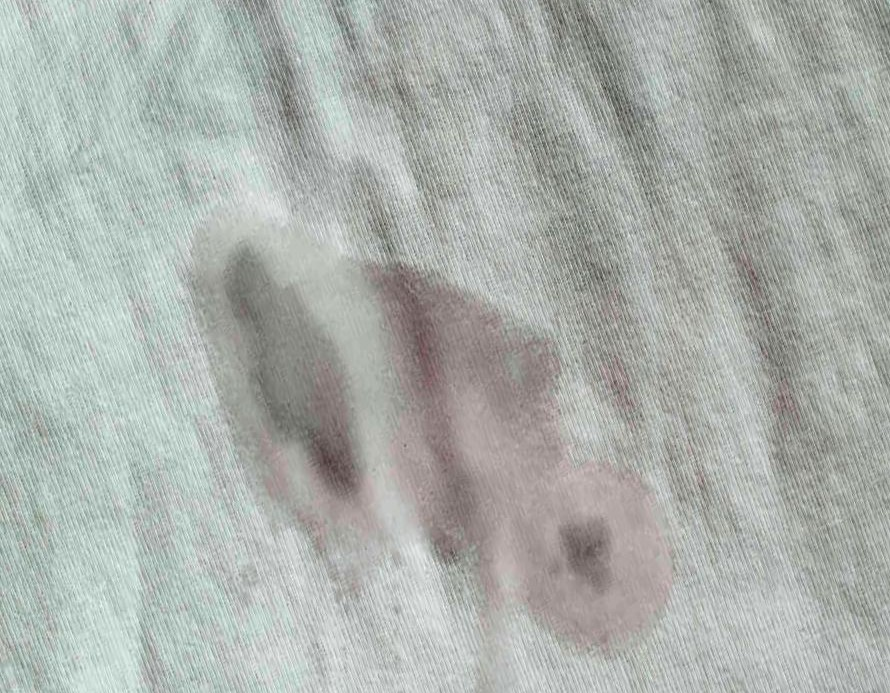stain: (166, 195, 696, 665)
